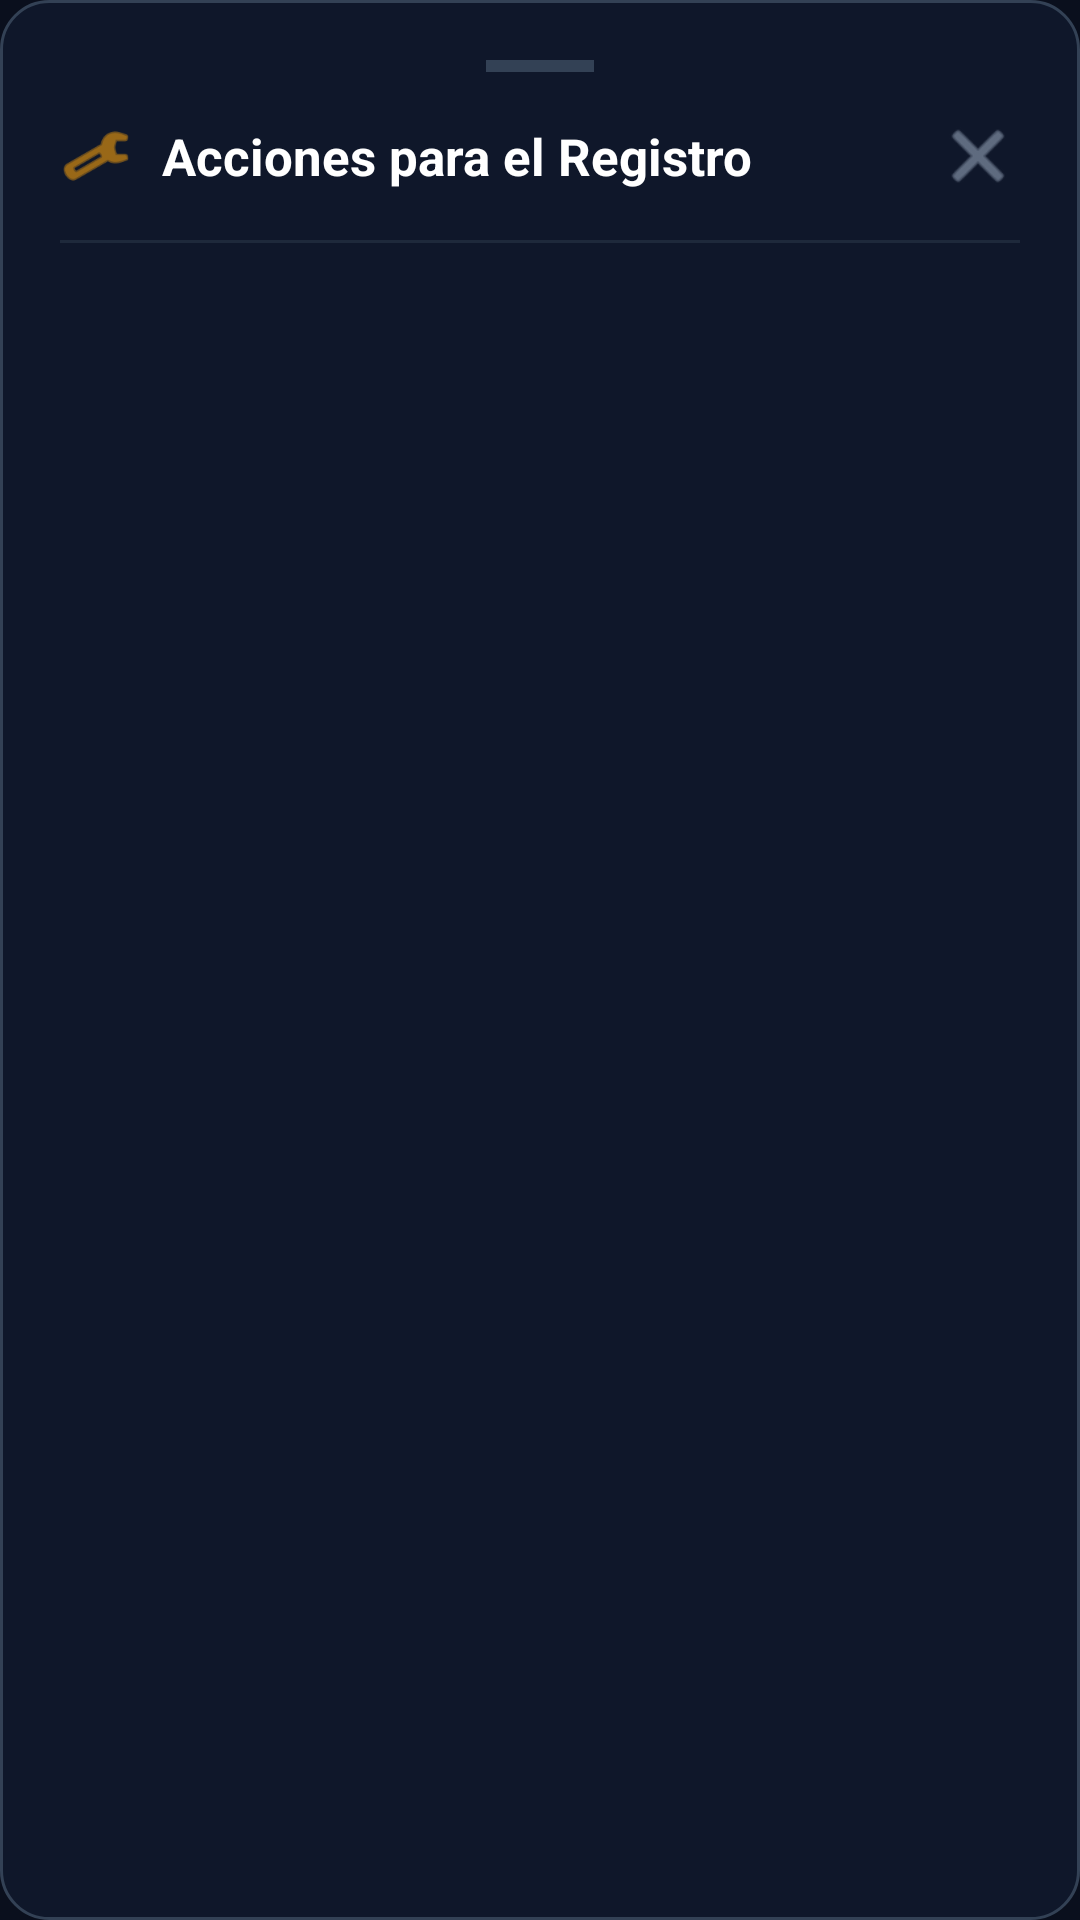

Point at icon controls on the screen. Image size 1080x1920, points as (x=x, y=y).
close clear cancel: (x=978, y=156)
preferences: (x=95, y=156)
